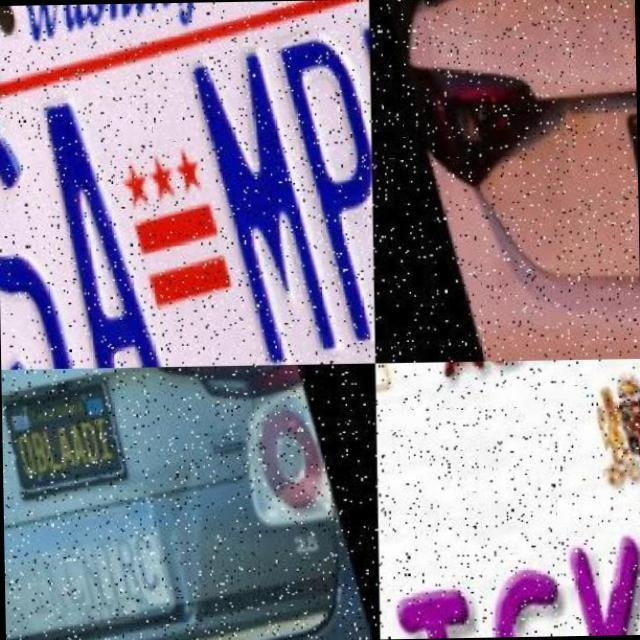License Plate: (0, 0, 374, 368), (376, 441, 640, 639), (1, 380, 125, 500), (617, 90, 639, 254)
